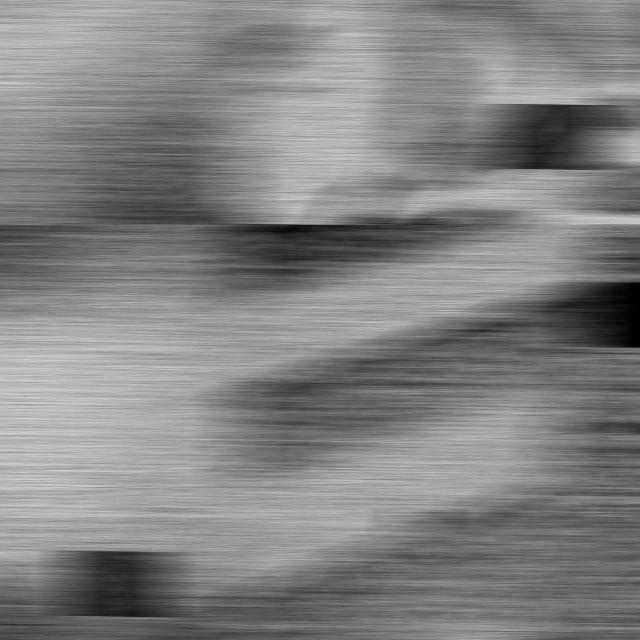bottle: (224, 224, 639, 639), (0, 224, 247, 639), (224, 0, 639, 223), (0, 0, 247, 223)
